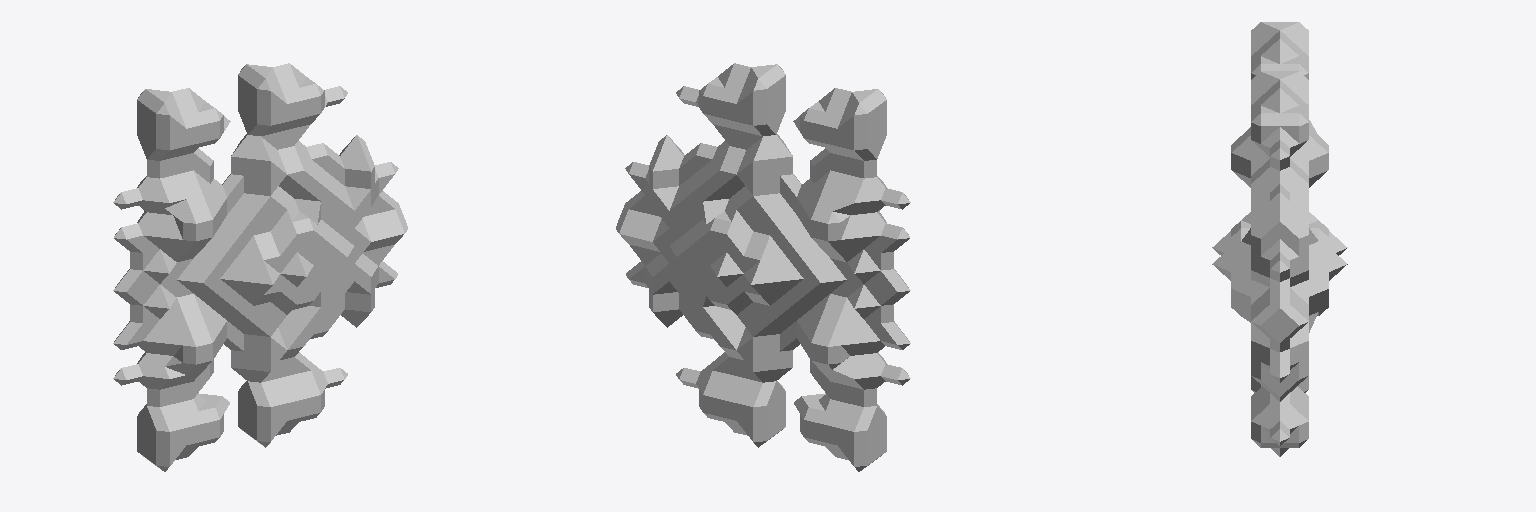
Rendered from enemyM2.obj.
3 renders of one model, left to right at view 1: azimuth 30°, elevation 25°; view 2: azimuth 150°, elevation 25°; view 3: azimuth 270°, elevation 25°, orthographic.
Bounding box in the file's own units: 3.03 × 3.74 × 1.25.